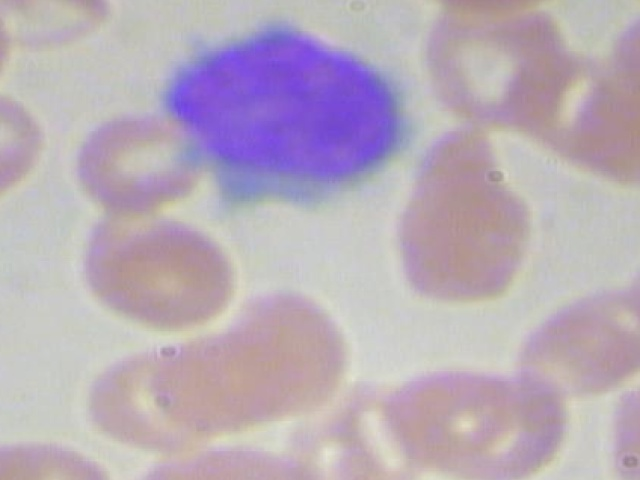RBC: (391, 119, 535, 305), (82, 213, 242, 338), (504, 280, 640, 399), (66, 112, 213, 218), (0, 87, 71, 249), (0, 0, 16, 96)
WBC: (136, 14, 435, 216)
